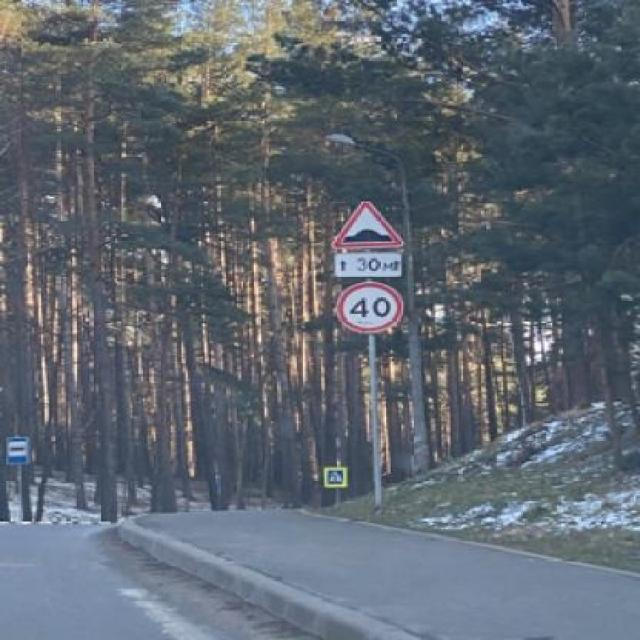forb_speed_over_40: (339, 281, 403, 333)
